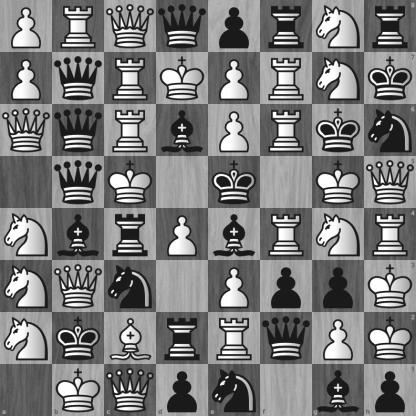B: (105, 313, 156, 364)
K: (52, 364, 104, 416), (364, 260, 416, 312), (364, 312, 416, 364), (105, 157, 156, 208), (157, 53, 208, 104), (313, 157, 364, 208)
N: (1, 209, 52, 260), (1, 261, 52, 312), (1, 313, 52, 364), (313, 1, 364, 52), (313, 53, 364, 104), (313, 209, 364, 260)
P: (1, 1, 52, 52), (1, 53, 52, 104), (157, 209, 208, 260), (209, 53, 260, 104), (209, 105, 260, 156), (209, 261, 260, 312), (313, 313, 364, 364)
Q: (364, 156, 416, 209), (104, 364, 156, 416), (1, 105, 52, 156), (53, 261, 104, 312), (105, 1, 156, 52)
R: (364, 209, 416, 260), (53, 1, 104, 52), (105, 53, 156, 104), (105, 105, 156, 156), (209, 313, 260, 364), (261, 53, 312, 104), (261, 105, 312, 156), (261, 209, 312, 260)
b: (312, 364, 364, 416), (53, 209, 104, 260), (157, 105, 208, 156), (209, 209, 260, 260)
board: (0, 0, 415, 415)
k: (364, 52, 416, 104), (53, 313, 104, 364), (209, 157, 260, 208), (313, 105, 364, 156)
n: (364, 104, 416, 156), (209, 364, 260, 416), (105, 261, 156, 312)
p: (156, 364, 209, 416), (364, 364, 416, 416), (209, 1, 260, 52), (261, 261, 312, 312), (313, 261, 364, 312)
q: (53, 53, 104, 104), (53, 105, 104, 156), (53, 157, 104, 208), (157, 1, 208, 52), (261, 313, 312, 364)
r: (364, 0, 416, 52), (105, 209, 156, 260), (157, 313, 208, 364), (261, 1, 312, 52)
